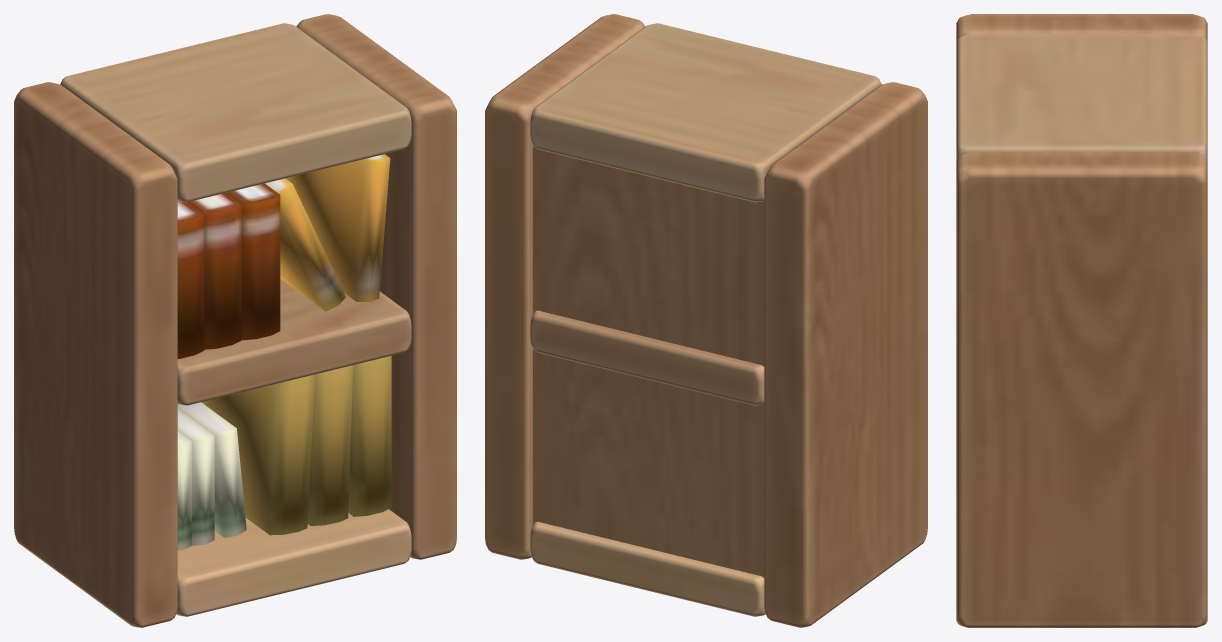
The picture shows the model from 3 angles, left to right: view 1: azimuth 30°, elevation 25°; view 2: azimuth 150°, elevation 25°; view 3: azimuth 270°, elevation 25°; orthographic projection.
Size of the model in its own units: 8.6 by 11.5 by 5.7.
Materials: 1 (1 with a texture image).
